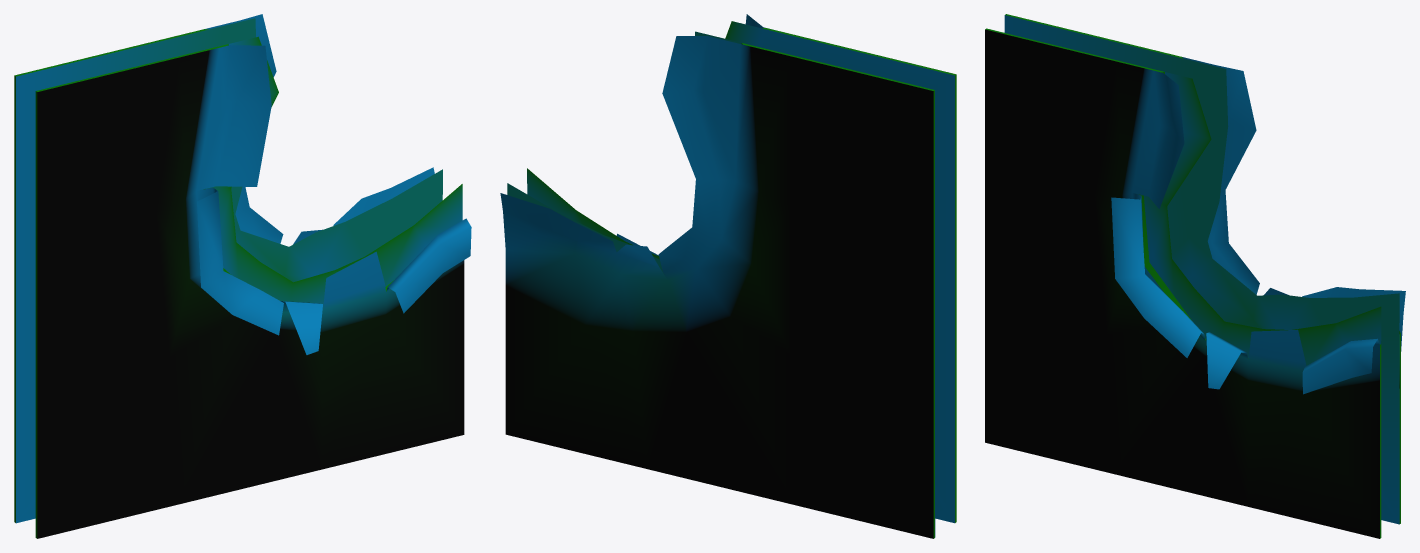
Rendered from DBK_Drywall_90_A.fbx.
3 views of the same model, side by side, from view 1: azimuth 30°, elevation 25°; view 2: azimuth 150°, elevation 25°; view 3: azimuth 330°, elevation 25° (orthographic). The views are drawn at different scales.
Parts seen in each view (by area): view 1: DBK_Drywall_90_A; view 2: DBK_Drywall_90_A; view 3: DBK_Drywall_90_A.
Part boxes in pixels (left/top/right/bottom): DBK_Drywall_90_A: left=14, top=14, right=471, bottom=538; DBK_Drywall_90_A: left=500, top=14, right=956, bottom=538; DBK_Drywall_90_A: left=985, top=14, right=1405, bottom=538.
Size of what is drawn, in the model's own units: 300 by 300 by 55.06.
